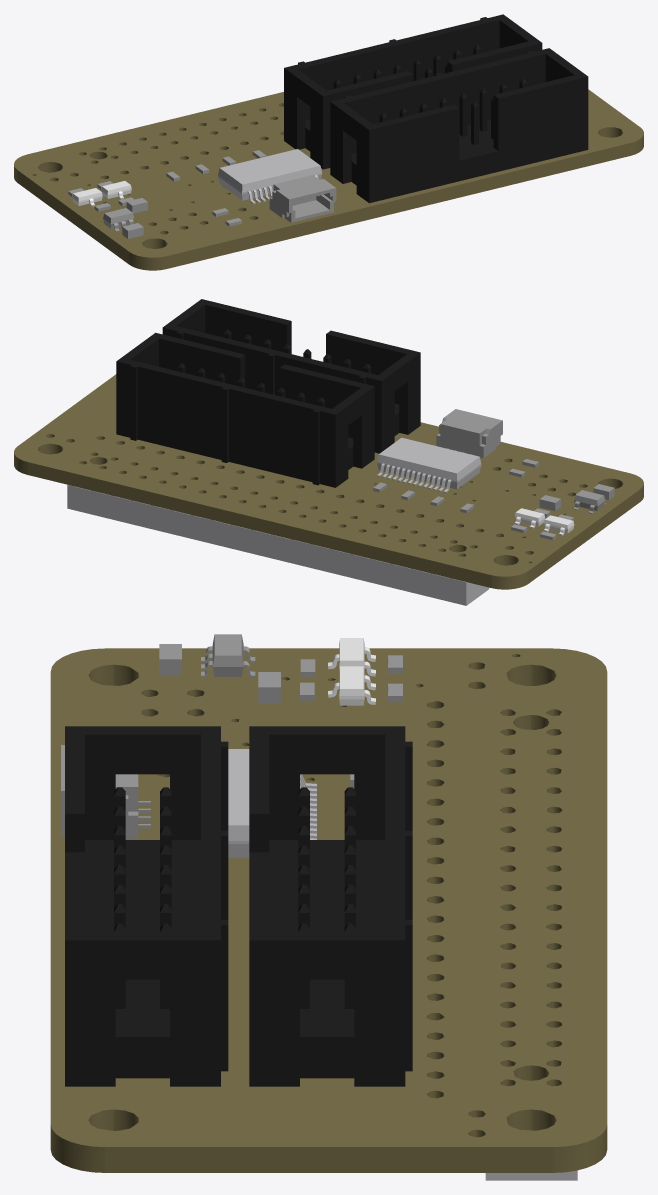
The model's file is ada-4132.glb.
3 views of the same model, one above another, from view 1: azimuth 30°, elevation 25°; view 2: azimuth 150°, elevation 25°; view 3: azimuth 270°, elevation 25° (orthographic). The views are drawn at different scales.
Visible parts, largest first — view 1: 0_0_0_0, 0.16666666666666666_0.16666666666666666_0.08333333333333333_, 0.3333333333333333_0.3333333333333333_0.3333333333333333_0, 0.5833333333333334_0.5833333333333334_0.5833333333333334_0.8, 0.9166666666666666_0.9166666666666666_0.9166666666666666_0.8; view 2: 0.16666666666666666_0.16666666666666666_0.08333333333333333_, 0_0_0_0, 0.5833333333333334_0.5833333333333334_0.5833333333333334_0.8, 0.3333333333333333_0.3333333333333333_0.3333333333333333_0, 0.9166666666666666_0.9166666666666666_0.9166666666666666_0.8; view 3: 0.16666666666666666_0.16666666666666666_0.08333333333333333_, 0_0_0_0, 0.3333333333333333_0.3333333333333333_0.3333333333333333_0, 0.5833333333333334_0.5833333333333334_0.5833333333333334_0.8, 0.9166666666666666_0.9166666666666666_0.9166666666666666_0.8.
Part boxes in pixels (x1,y1,x2,y2): 0_0_0_0: (284, 14, 588, 203); 0.16666666666666666_0.16666666666666666_0.08333333333333333_: (14, 89, 643, 270); 0.3333333333333333_0.3333333333333333_0.3333333333333333_0: (68, 150, 336, 238); 0.5833333333333334_0.5833333333333334_0.5833333333333334_0.8: (218, 149, 322, 204); 0.9166666666666666_0.9166666666666666_0.9166666666666666_0.8: (72, 181, 131, 206); 0.16666666666666666_0.16666666666666666_0.08333333333333333_: (14, 374, 643, 589); 0_0_0_0: (116, 299, 420, 487); 0.5833333333333334_0.5833333333333334_0.5833333333333334_0.8: (67, 437, 489, 605); 0.3333333333333333_0.3333333333333333_0.3333333333333333_0: (373, 409, 614, 540); 0.9166666666666666_0.9166666666666666_0.9166666666666666_0.8: (515, 508, 574, 535); 0.16666666666666666_0.16666666666666666_0.08333333333333333_: (50, 648, 607, 1172); 0_0_0_0: (65, 726, 412, 1086); 0.3333333333333333_0.3333333333333333_0.3333333333333333_0: (61, 634, 402, 838); 0.5833333333333334_0.5833333333333334_0.5833333333333334_0.8: (228, 749, 577, 1180); 0.9166666666666666_0.9166666666666666_0.9166666666666666_0.8: (328, 638, 375, 705).
Size of the model in its own units: 6.5 by 1.43 by 3.07.
